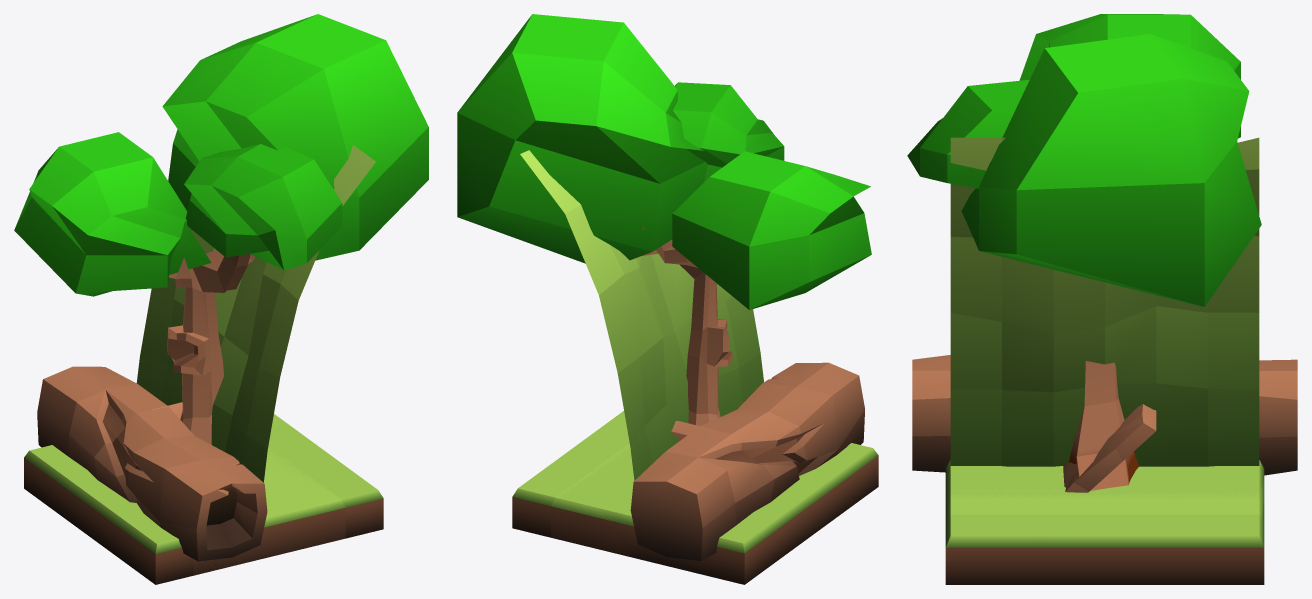
The model's file is Endless_Runner_Assets.glb.
3 views of the same model, side by side, from view 1: azimuth 30°, elevation 25°; view 2: azimuth 150°, elevation 25°; view 3: azimuth 270°, elevation 25° (orthographic). The views are drawn at different scales.
Parts seen in each view (by area): view 1: Tree, Log, Plane, 3Lanes, 2Lanes; view 2: Tree, Log, Plane, 3Lanes, 2Lanes; view 3: Tree, Plane, 3Lanes, Log, 2Lanes, Plank.
Boxes of the visible parts, x1,y1,x2,y2 form: Tree: (14,14,428,444); Log: (37,366,267,561); Plane: (136,145,375,482); 3Lanes: (24,414,383,584); 2Lanes: (193,446,345,575); Tree: (457,14,871,426); Log: (630,362,864,560); Plane: (520,150,763,480); 3Lanes: (512,411,878,584); 2Lanes: (551,443,704,573); Tree: (907,14,1261,490); Plane: (950,137,1259,466); 3Lanes: (945,460,1264,584); Log: (912,355,1297,475); 2Lanes: (945,464,1264,518); Plank: (1063,404,1156,492).
Size of the model in its own units: 9.39 by 11.27 by 7.58.
1 material, 1 textured.
